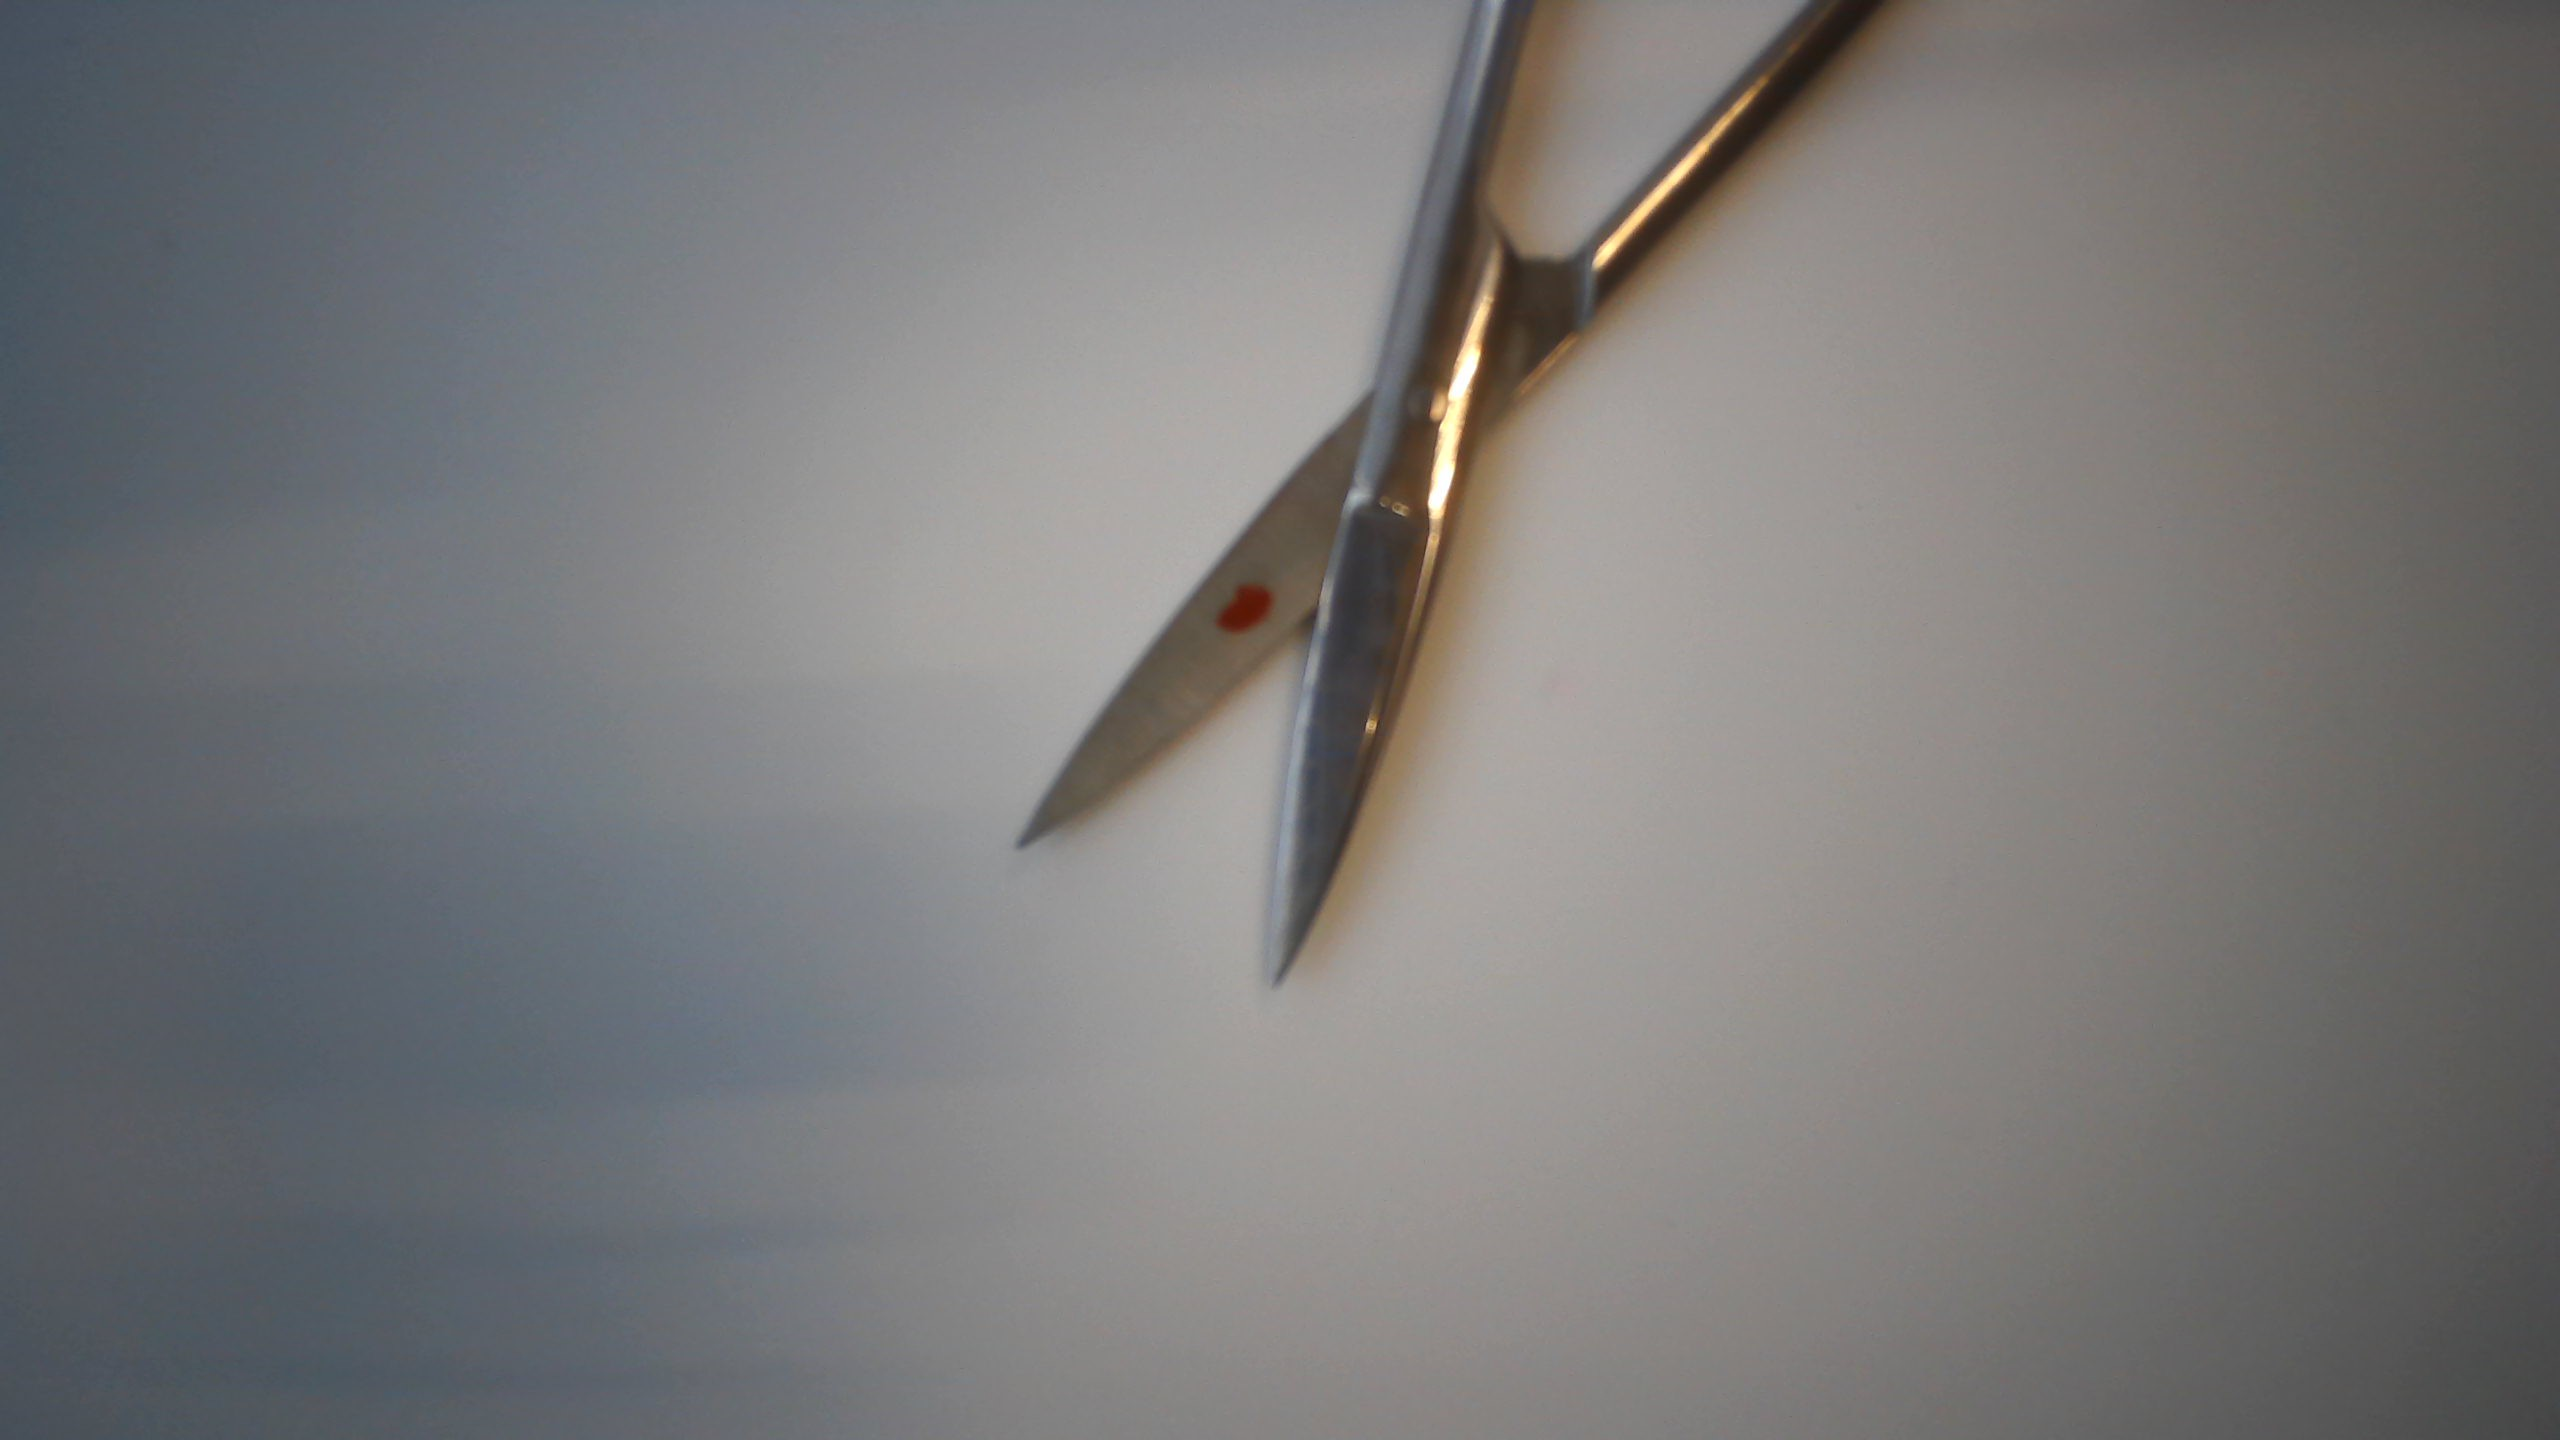Stain: (1197, 561, 1291, 656)
